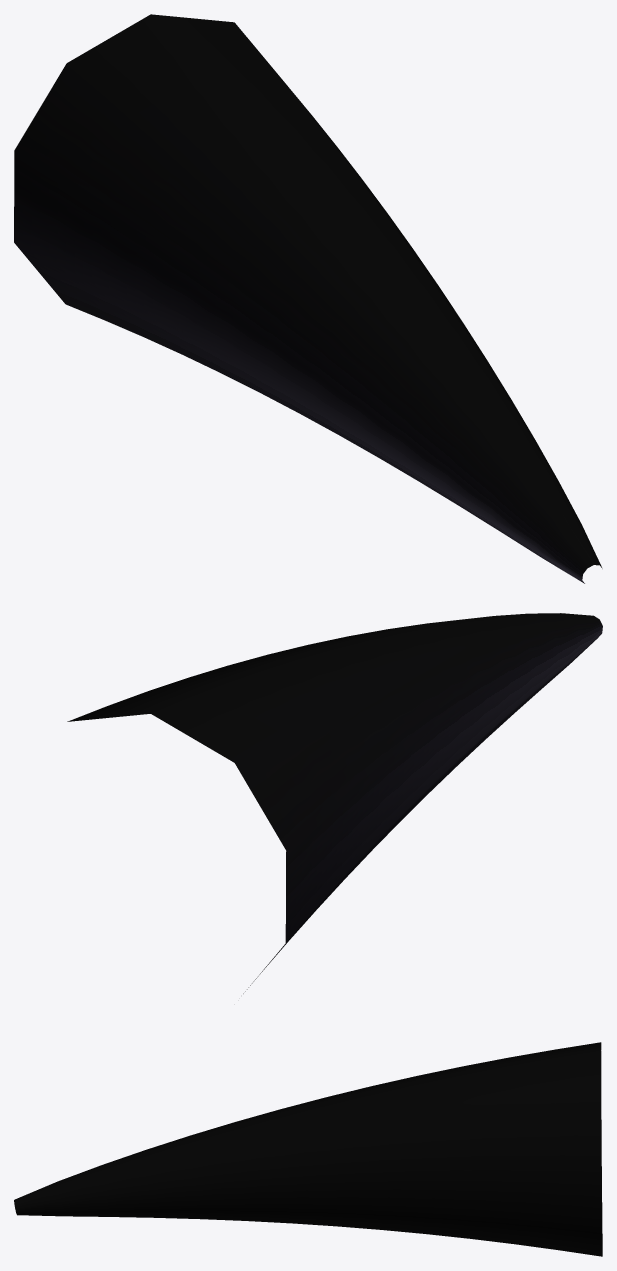
Rendered from darkjak-claw.glb.
The picture shows the model from 3 angles, top to bottom: view 1: azimuth 30°, elevation 25°; view 2: azimuth 150°, elevation 25°; view 3: azimuth 270°, elevation 25°; orthographic projection. The views are drawn at different scales.
Visible parts, largest first — view 1: darkjak-claw; view 2: darkjak-claw; view 3: darkjak-claw.
Boxes of the visible parts, x1,y1,x2,y2 form: darkjak-claw: [14, 14, 602, 583]; darkjak-claw: [67, 613, 602, 993]; darkjak-claw: [14, 1042, 602, 1256].
Size of the model in its own units: 0.039 by 0.041 by 0.1105.
Materials: 1 (1 with a texture image).
